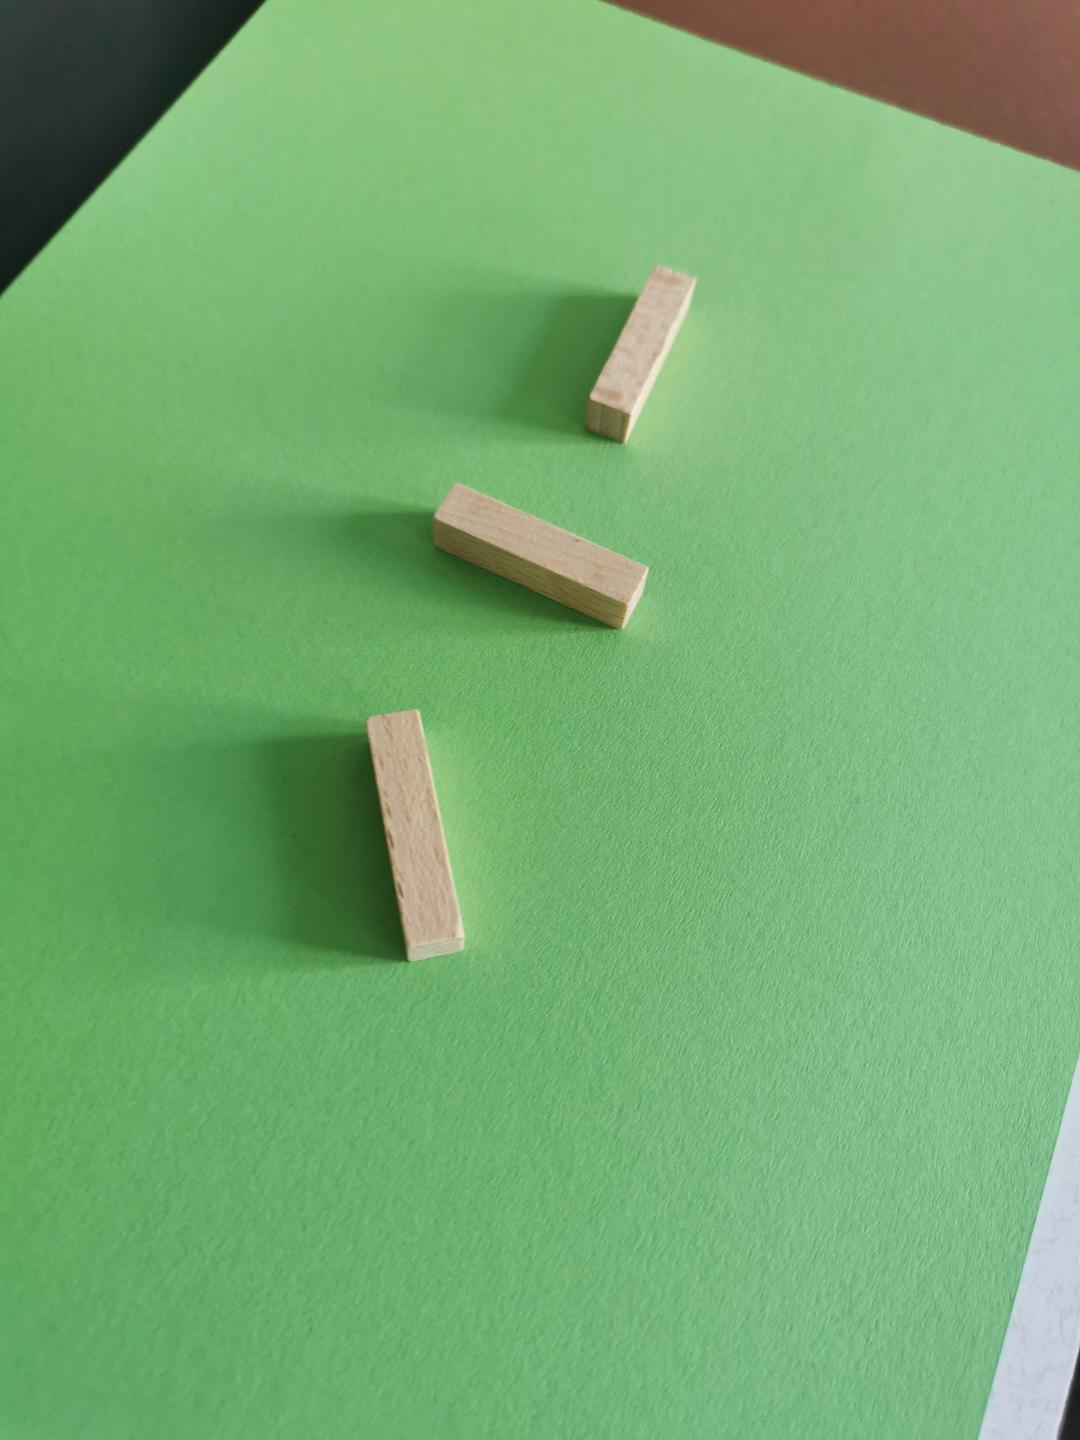jenga: (433, 484, 647, 627), (365, 709, 464, 962), (585, 268, 694, 441)
